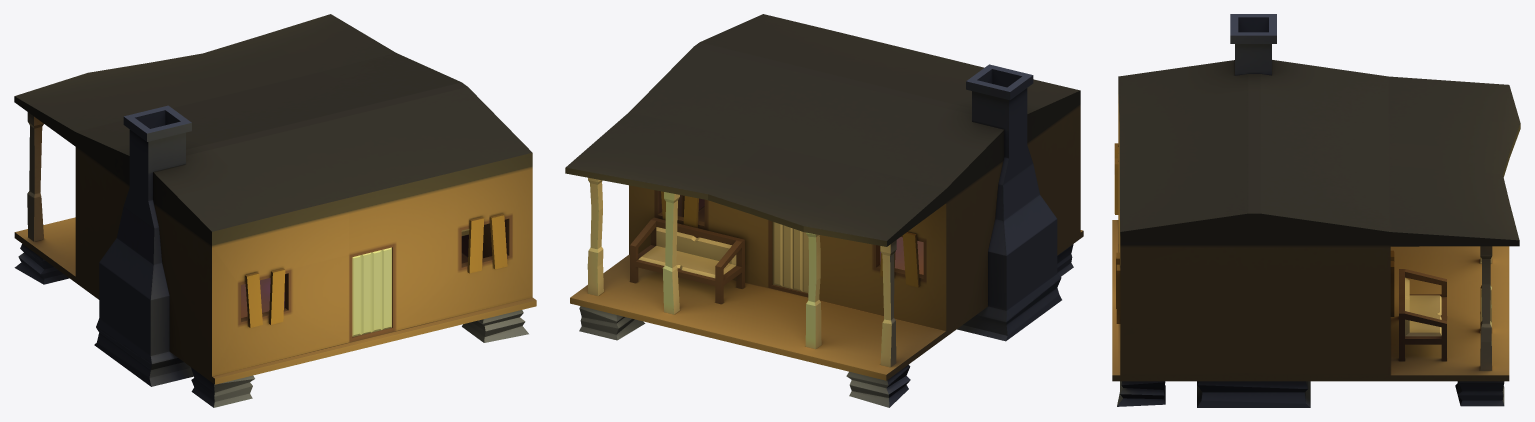
The model's file is scene_house.fbx.
The picture shows the model from 3 angles, left to right: view 1: azimuth 30°, elevation 25°; view 2: azimuth 150°, elevation 25°; view 3: azimuth 270°, elevation 25°; orthographic projection.
Parts seen in each view (by area): view 1: PlayerHouse; view 2: PlayerHouse; view 3: PlayerHouse.
Boxes of the visible parts, box(x1,y1,x2,y2) form: PlayerHouse: box(14, 14, 536, 407); PlayerHouse: box(565, 14, 1083, 407); PlayerHouse: box(1112, 14, 1520, 407).
Size of the model in its own units: 7.65 by 5.08 by 7.96.
